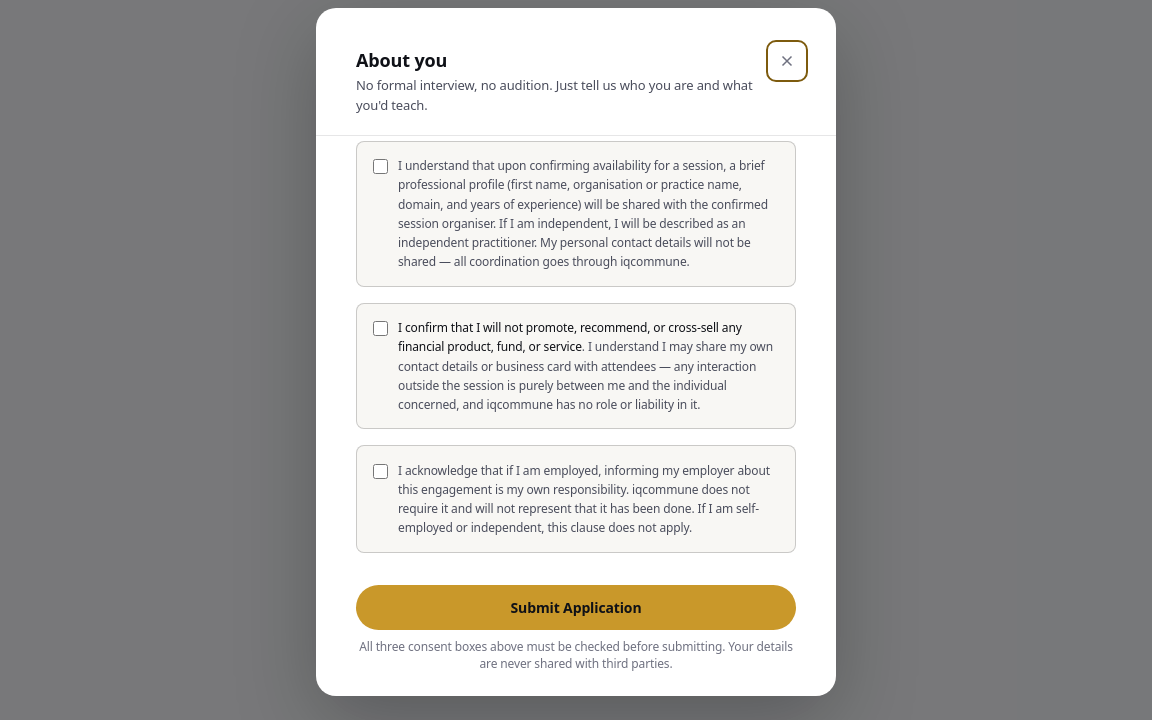
ApplyModal › refuses to submit until every consent is given
(page scrolled)
Click the button "Submit Application": (576, 608) [356,585,796,630]
(page scrolled)
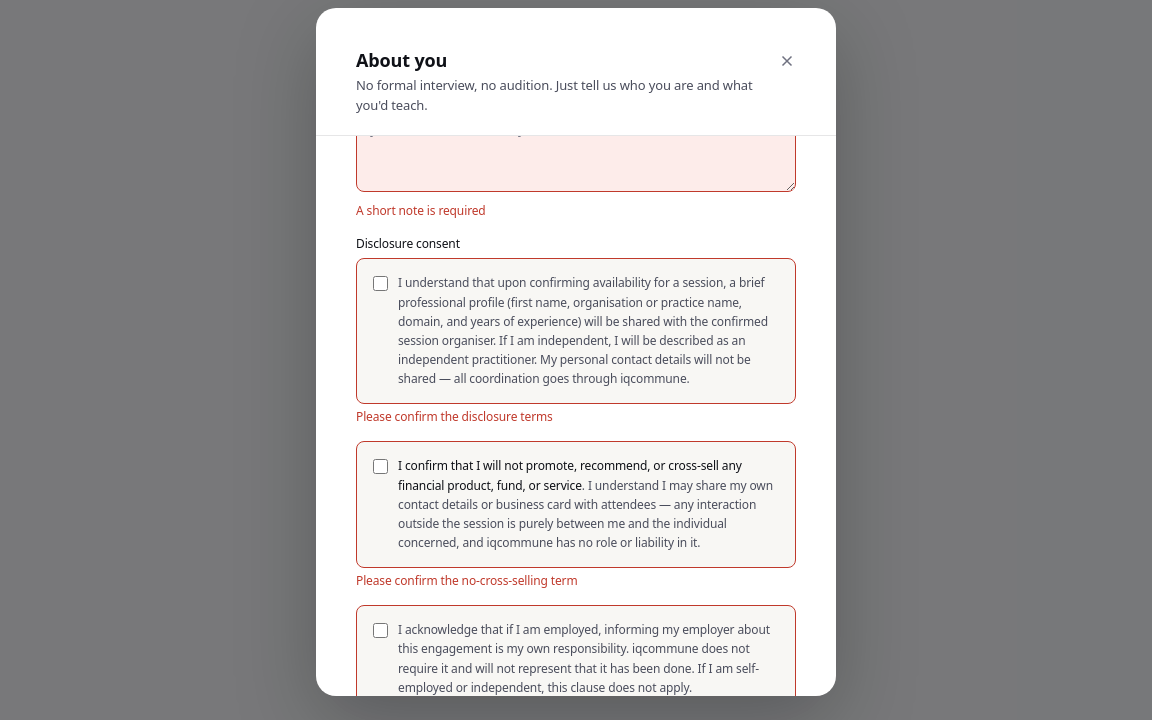
expect the text "Please confirm the disclosure terms" is shown: met, box [356,408,553,425]
